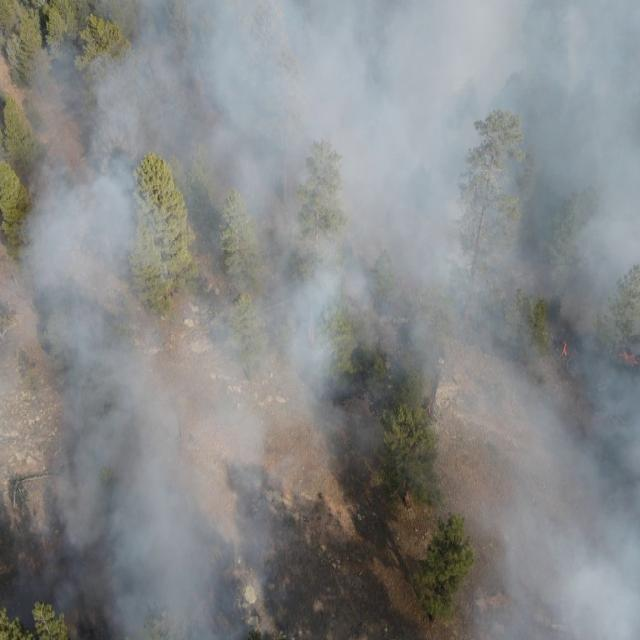fire: (616, 350, 640, 370), (305, 322, 316, 350), (560, 338, 572, 361), (424, 398, 435, 420)
smoke: (0, 0, 640, 640)
